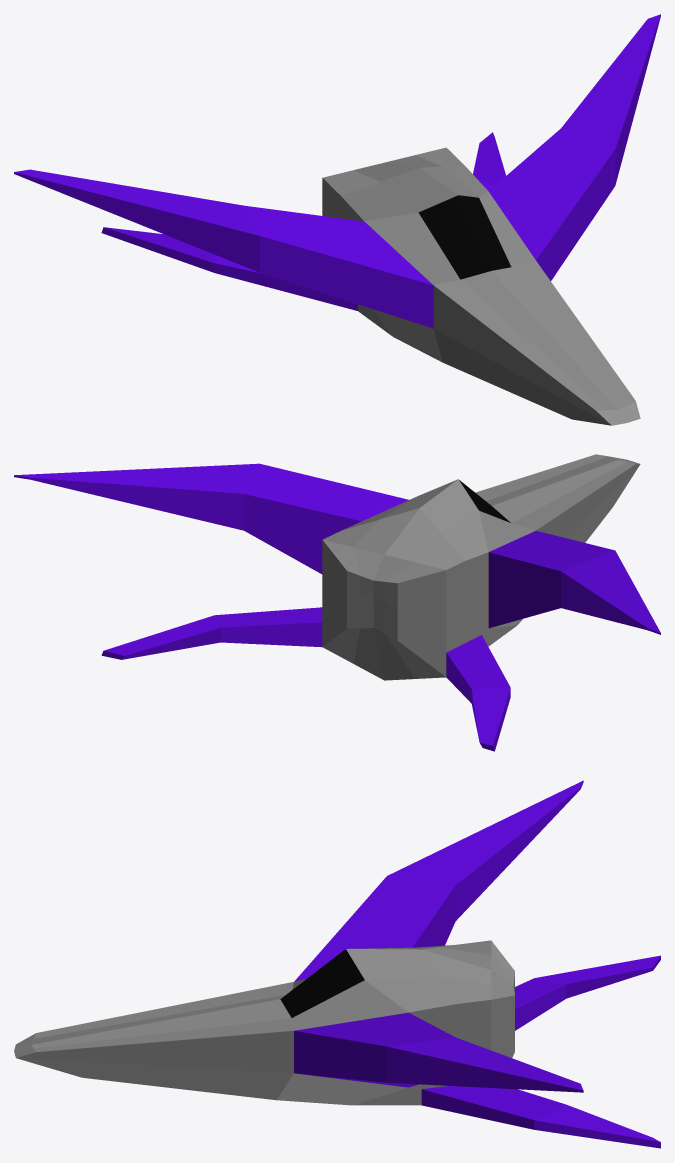
File: starship.glb
3 renders of one model, top to bottom at view 1: azimuth 30°, elevation 25°; view 2: azimuth 150°, elevation 25°; view 3: azimuth 270°, elevation 25°, orthographic.
Parts seen in each view (by area): view 1: Ship; view 2: Ship; view 3: Ship.
Boxes of the visible parts, box(x1,y1,x2,y2) form: Ship: box(14, 14, 660, 425); Ship: box(14, 454, 660, 751); Ship: box(14, 780, 660, 1148).
Bounding box in the file's own units: 10.44 × 2.48 × 9.2.
